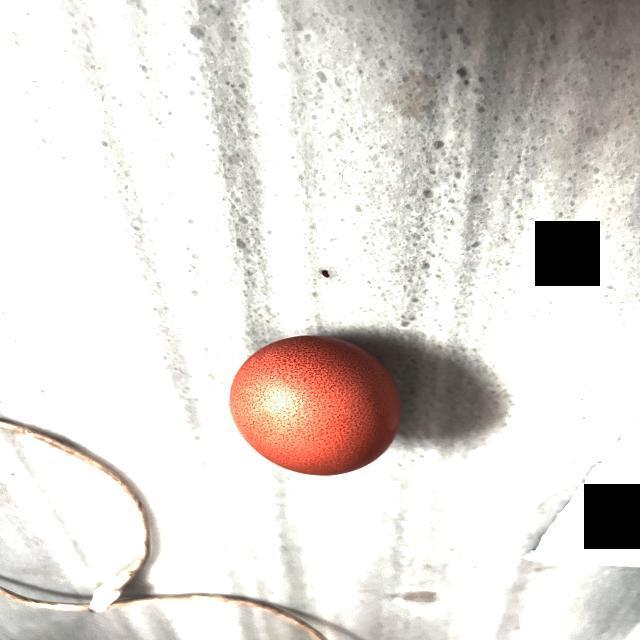egg: (222, 332, 410, 478)
